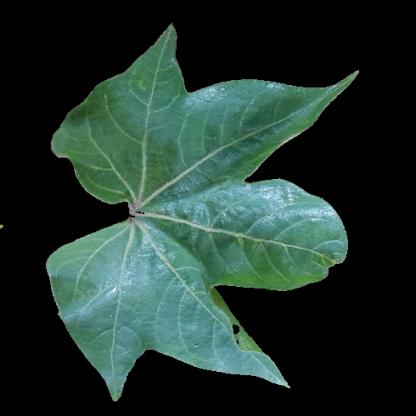healthy: (72, 253, 197, 341), (199, 194, 332, 272), (105, 91, 192, 201), (83, 103, 165, 182), (195, 92, 278, 156)
